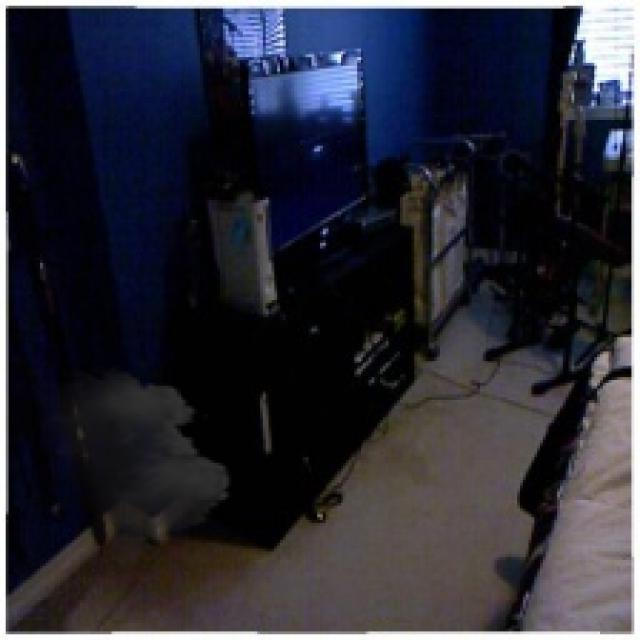Smoke: (20, 366, 240, 572)
